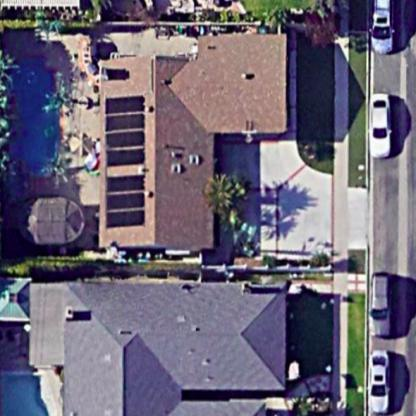car: (365, 263, 398, 346), (366, 85, 394, 165), (366, 348, 398, 415), (366, 2, 401, 60)
solar_panel: (104, 90, 153, 172), (101, 170, 156, 231)
swimming_pool: (4, 48, 71, 188), (3, 363, 54, 416)
